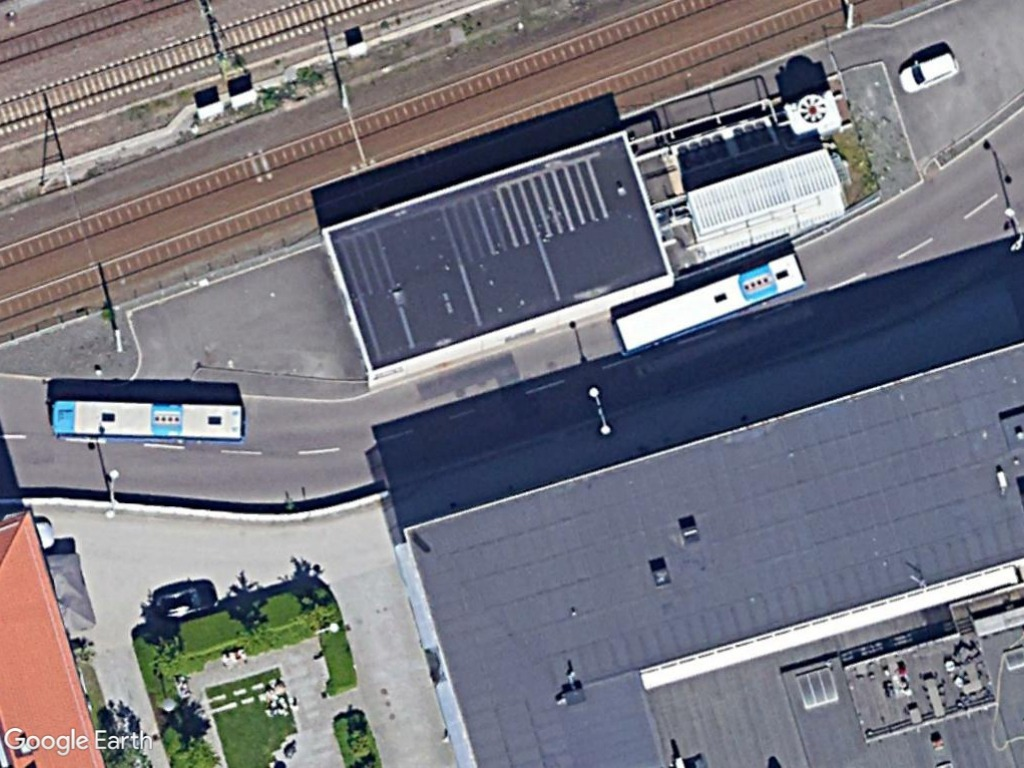bus: (602, 249, 808, 360), (47, 394, 250, 447)
car: (149, 570, 225, 624), (896, 44, 963, 98)
